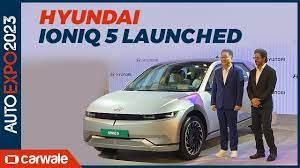Honda Ioniq: (80, 55, 208, 160)
